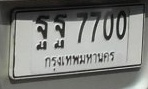txt12: (52, 12, 69, 52), (34, 14, 50, 51)
